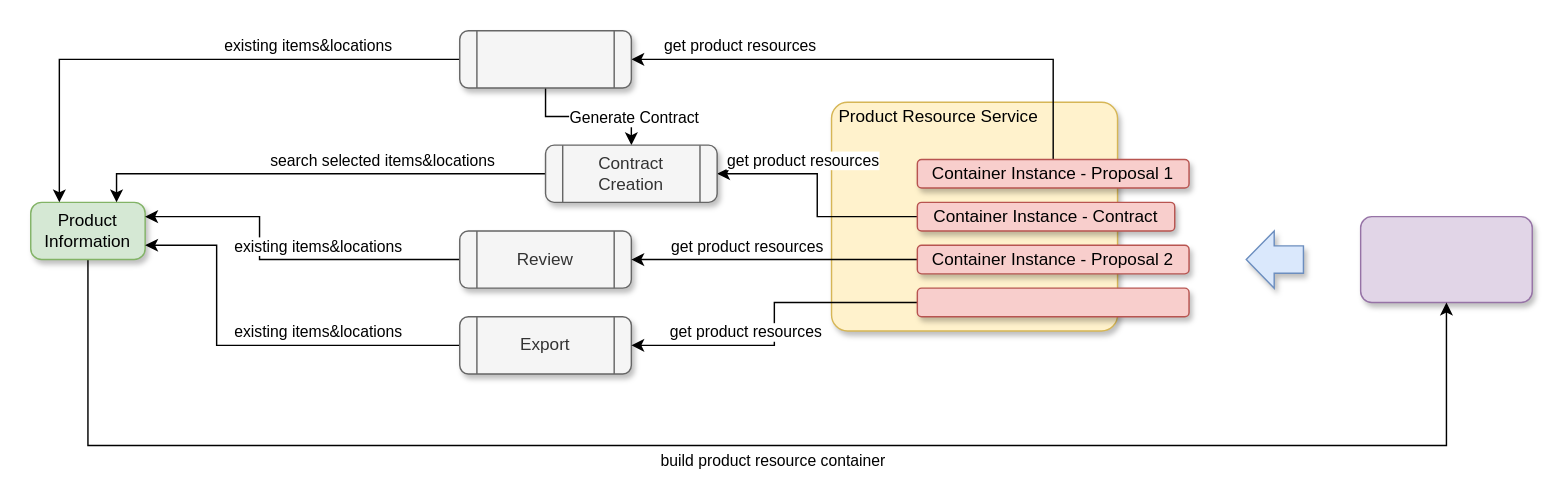
This 1566x495 diagram has some shape labels left out. Here are the shapes that lost their labels. From the top down, the centre of each, then its label:
At [546,61]: "Proposal Creation".
At [1447,260]: "Product Resource Container".
At [1054,304]: "Container Instance - Proposal 3".
